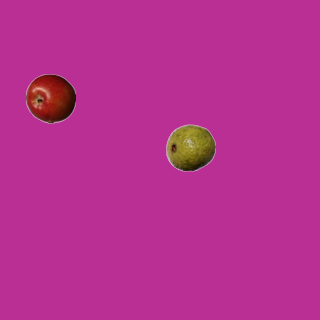Apple Braeburn: (25, 73, 75, 123)
Guava: (165, 122, 215, 172)
